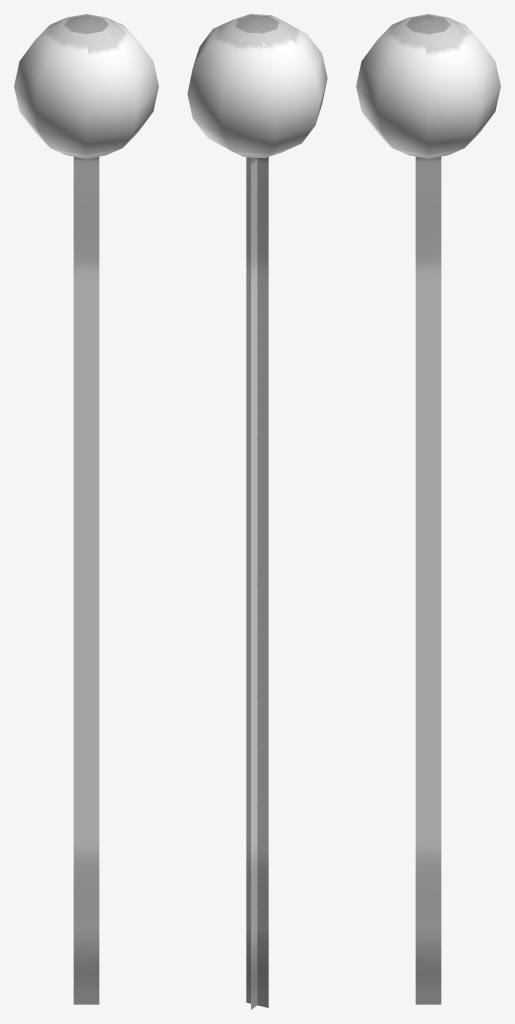
File: lightPoleGlobe.obj
3 views of the same model, side by side, from view 1: azimuth 90°, elevation 25°; view 2: azimuth 150°, elevation 25°; view 3: azimuth 270°, elevation 25° (orthographic).
Parts seen in each view (by area): view 1: pasted__lightPoleGlobe group; view 2: pasted__lightPoleGlobe group; view 3: pasted__lightPoleGlobe group.
Boxes of the visible parts, x1,y1,x2,y2 form: pasted__lightPoleGlobe group: [14, 14, 158, 1004]; pasted__lightPoleGlobe group: [187, 14, 327, 1009]; pasted__lightPoleGlobe group: [356, 14, 500, 1004].
Bounding box in the file's own units: 0.5 × 3.74 × 0.5.
1 material, 1 textured.
